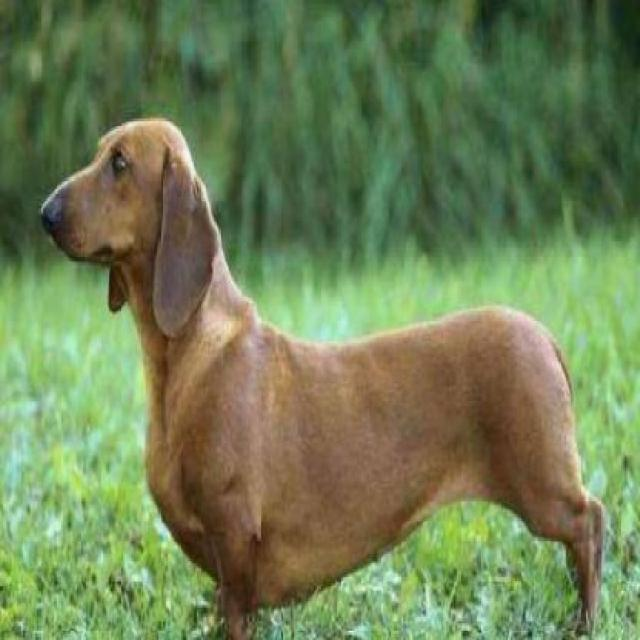Dog: (38, 120, 614, 638)
